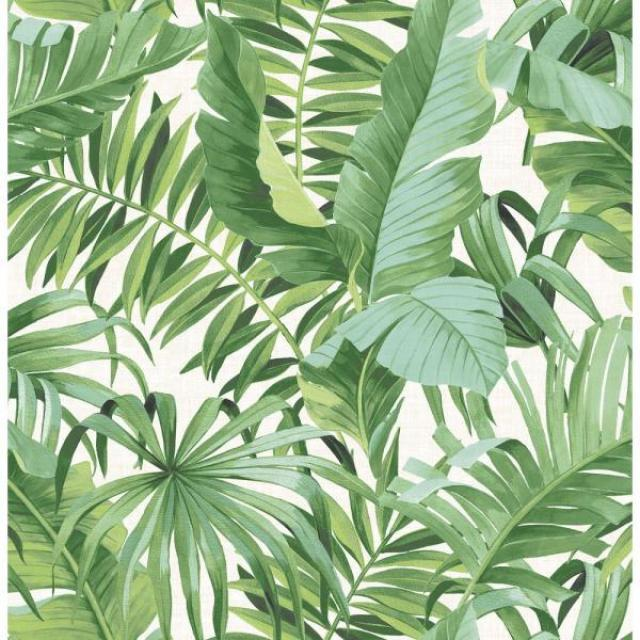green waste: (12, 0, 624, 633)
